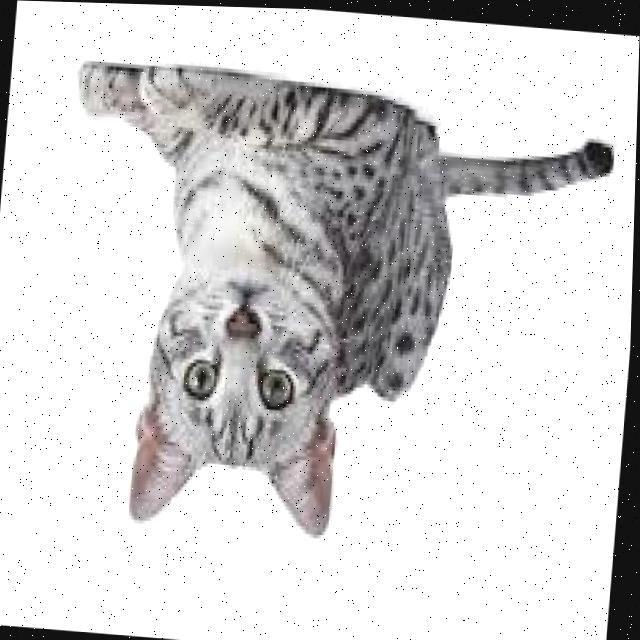Egyptian Mau: (38, 47, 624, 569)
